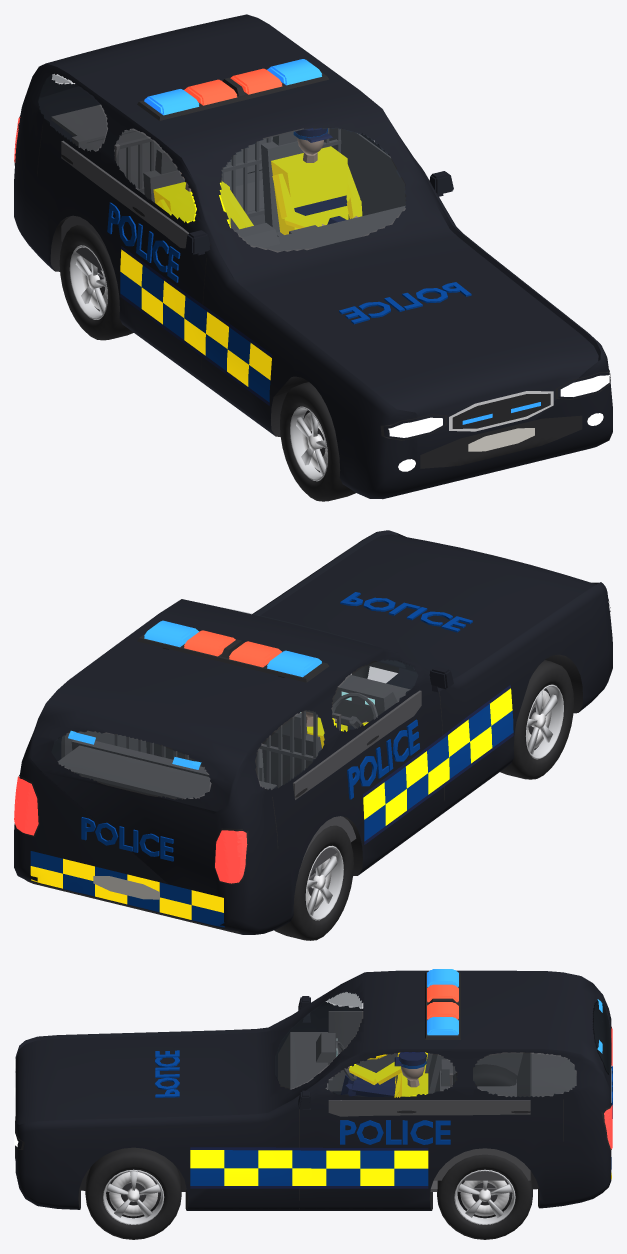
The model's file is suv.glb.
3 views of the same model, one above another, from view 1: azimuth 30°, elevation 25°; view 2: azimuth 150°, elevation 25°; view 3: azimuth 270°, elevation 25° (orthographic). The views are drawn at different scales.
Parts seen in each view (by area): view 1: body, glass, interior, trim, livery_blue, passenger, wheel_fr, wheel_rr, livery_yellow, driver, lightbar_blue, lights (+5 smaller); view 2: body, interior, glass, livery_blue, livery_yellow, wheel_fr, wheel_rr, trim, lights, lightbar_blue, lightbar_red, livery_dark (+1 smaller); view 3: body, glass, interior, wheel_fl, livery_blue, wheel_rl, livery_yellow, driver, livery_dark, trim, passenger, lightbar_blue (+4 smaller).
Part boxes in pixels (x1,y1,x2,y2): body: (14, 14, 612, 499); glass: (38, 74, 405, 250); interior: (51, 104, 406, 279); trim: (14, 72, 610, 468); livery_blue: (107, 202, 471, 402); passenger: (271, 128, 362, 234); wheel_fr: (280, 382, 355, 501); wheel_rr: (59, 225, 133, 340); livery_yellow: (120, 249, 271, 386); driver: (153, 173, 253, 229); lightbar_blue: (144, 59, 321, 115); lights: (14, 117, 609, 471); body: (14, 530, 612, 934); interior: (57, 675, 421, 880); glass: (52, 609, 417, 798); livery_blue: (30, 592, 513, 927); livery_yellow: (30, 688, 512, 919); wheel_fr: (500, 660, 573, 779); wheel_rr: (274, 825, 353, 940); trim: (14, 599, 610, 933); lights: (14, 601, 609, 883); lightbar_blue: (144, 620, 321, 677); lightbar_red: (184, 630, 281, 667); livery_dark: (363, 685, 513, 844); body: (15, 970, 611, 1210); glass: (275, 992, 611, 1096); interior: (278, 1011, 576, 1191); wheel_fl: (85, 1147, 181, 1239); livery_blue: (155, 1050, 612, 1185); wheel_rl: (437, 1154, 532, 1239); livery_yellow: (190, 1150, 611, 1185); driver: (340, 1052, 427, 1097); livery_dark: (190, 1147, 428, 1188); trim: (15, 972, 611, 1210); passenger: (394, 1052, 428, 1097); lightbar_blue: (427, 969, 458, 1035).
Size of the model in its own units: 2.01 by 1.8 by 4.98.
